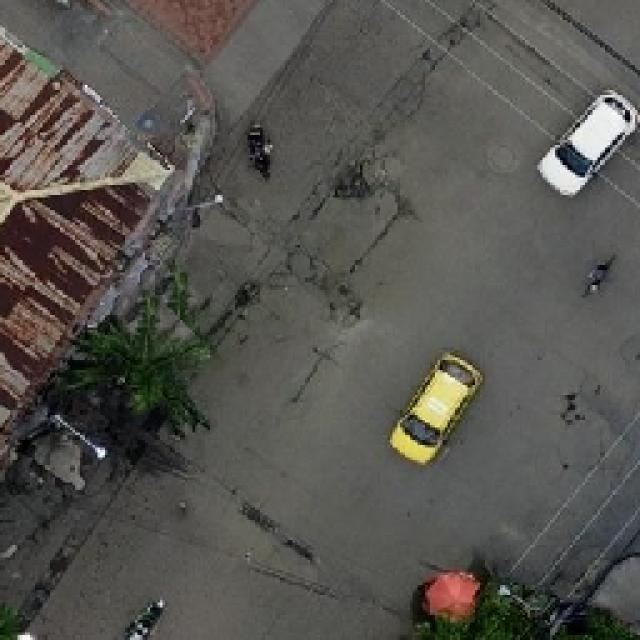vendedor_ambulante: (416, 566, 493, 630)
